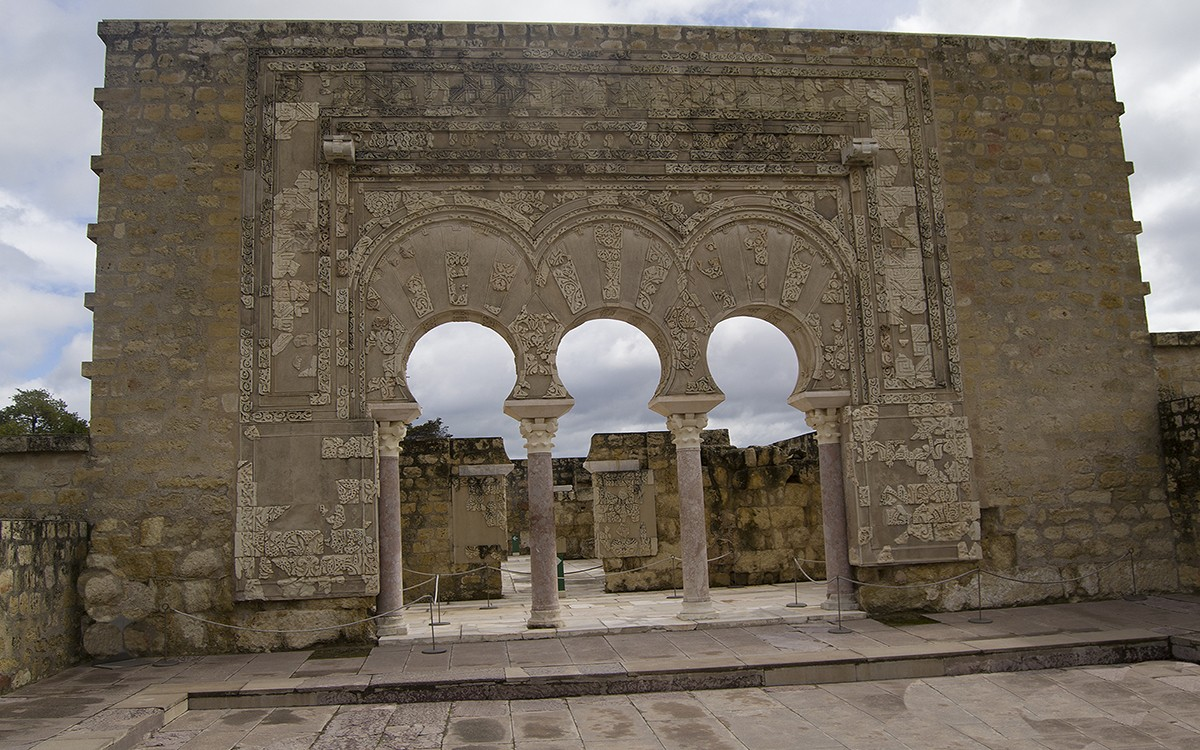arco-herradura: (539, 293, 691, 455), (385, 298, 539, 456), (689, 292, 831, 449)
